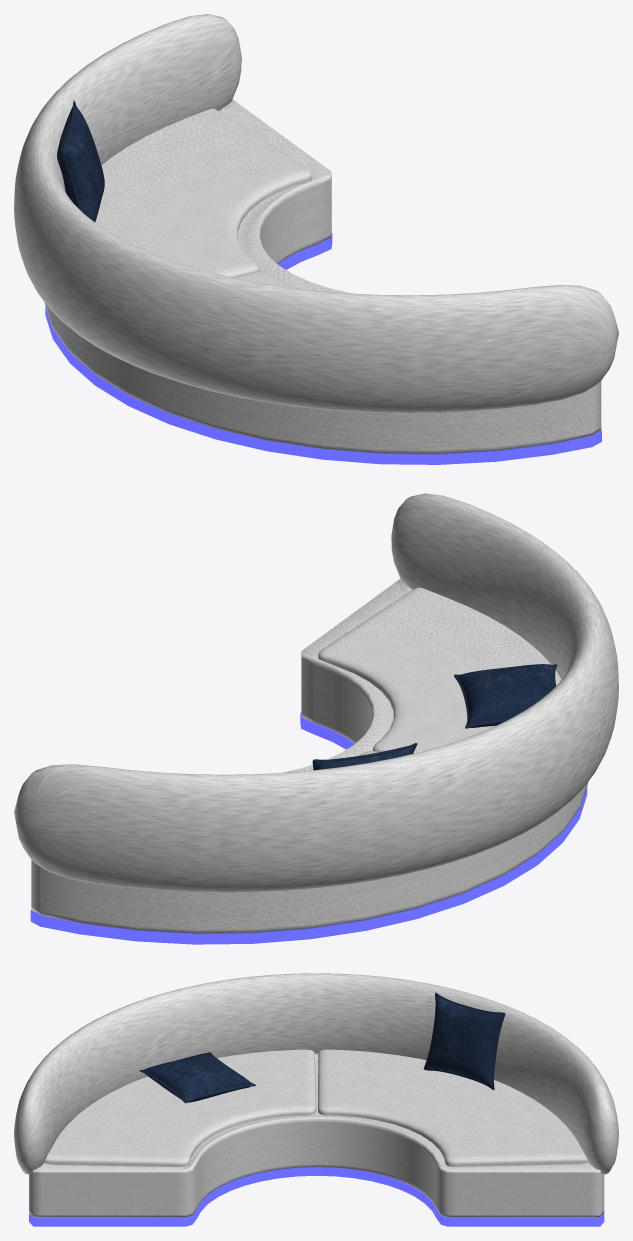
File: couch.glb
3 views of the same model, one above another, from view 1: azimuth 30°, elevation 25°; view 2: azimuth 150°, elevation 25°; view 3: azimuth 270°, elevation 25° (orthographic). The views are drawn at different scales.
Visible parts, largest first — view 1: back couch, couch, couch cushion (×2), couch light; view 2: back couch, couch, couch cushion 2, couch light, couch cushion001, couch cushion; view 3: back couch, couch, couch cushion (×2), couch cushion 2, couch light, couch cushion001.
Part boxes in pixels (x1,y1,x2,y2): back couch: (14,14,618,413); couch: (44,99,601,454); couch cushion (×2): (57,101,312,277); couch light: (45,233,601,464); back couch: (14,493,618,892); couch: (31,579,588,934); couch cushion 2: (318,587,561,753); couch light: (30,712,587,944); couch cushion001: (454,664,557,728); couch cushion: (312,743,417,770); back couch: (14,973,618,1174); couch: (29,1053,604,1217); couch cushion (×2): (318,992,588,1166); couch cushion 2: (44,1049,316,1166); couch light: (29,1166,604,1226); couch cushion001: (139,1052,255,1103).
Size of the model in its own units: 55.38 by 24.7 by 103.
3 materials, 2 textured.
